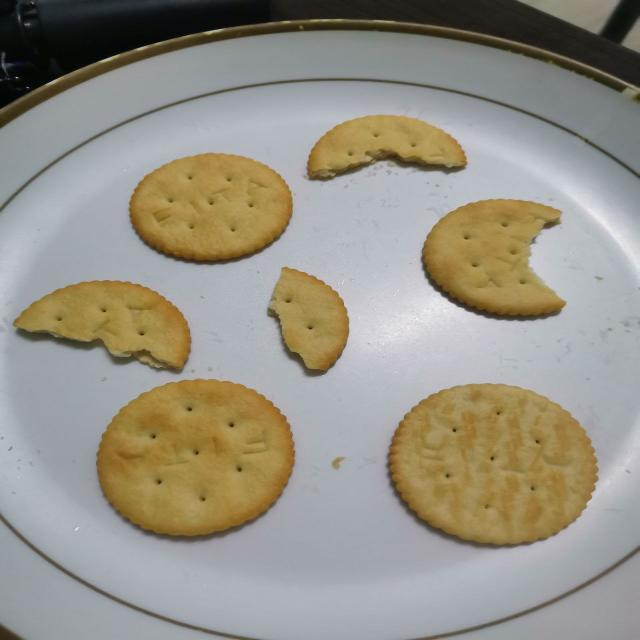broken biscuit: (420, 196, 567, 318), (11, 278, 192, 372), (266, 263, 365, 378), (305, 112, 468, 180)
intact biscuit: (386, 381, 599, 546), (95, 377, 296, 537), (128, 151, 294, 262)
